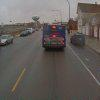Bus: (40, 20, 69, 52)
